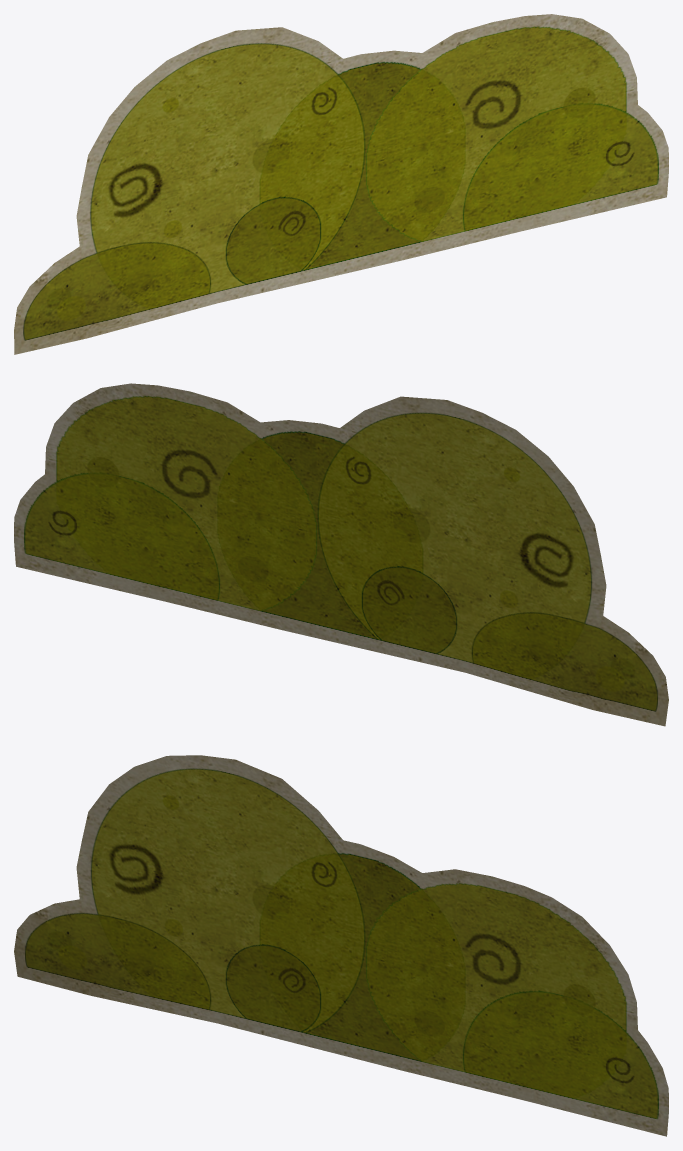
The model's file is plant_08.FBX.
3 renders of one model, top to bottom at view 1: azimuth 30°, elevation 25°; view 2: azimuth 150°, elevation 25°; view 3: azimuth 330°, elevation 25°, orthographic.
Visible parts, largest first — view 1: Plane01; view 2: Plane01; view 3: Plane01.
Part boxes in pixels (x1,y1,x2,y2): Plane01: (14,14,668,354); Plane01: (14,383,668,726); Plane01: (14,755,668,1136).
Bounding box in the file's own units: 122 × 48.47 × 0.4919.
